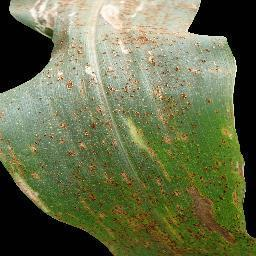Corn_Common_Rust: (3, 0, 256, 256)
